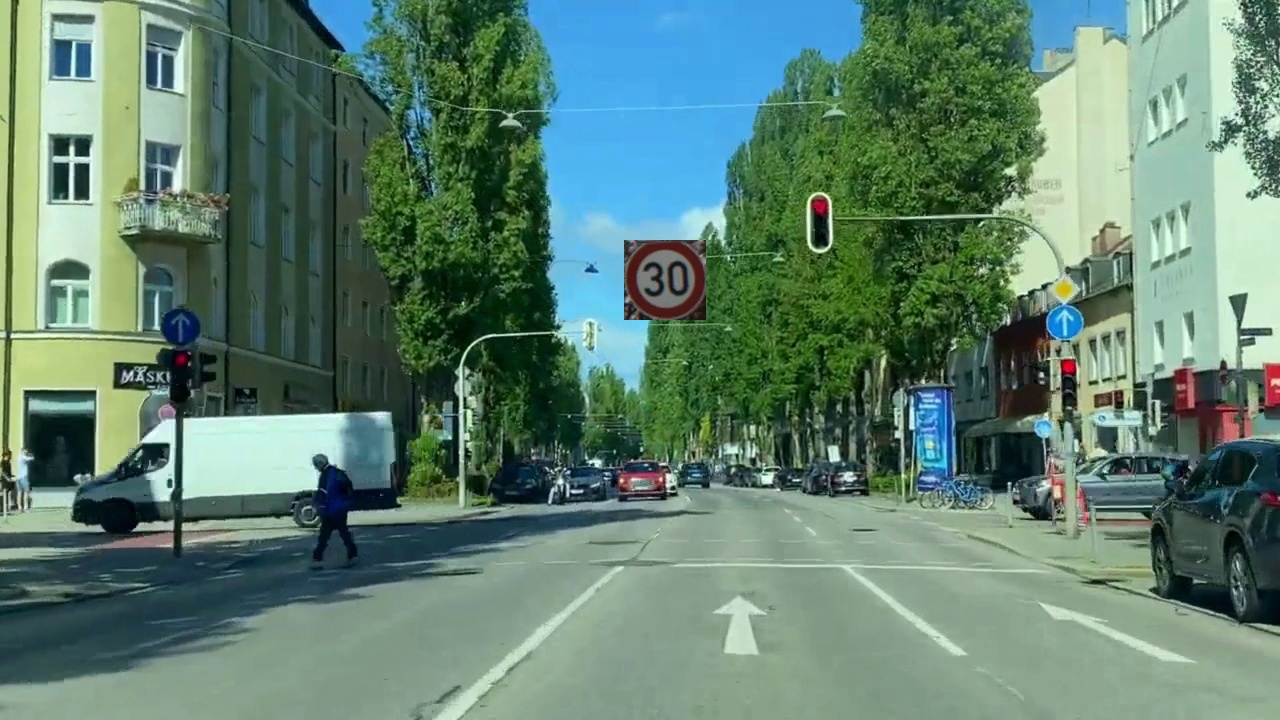Speed 30: (624, 240, 706, 320)
